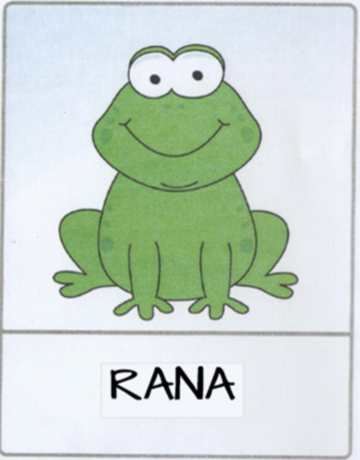rana: (20, 17, 324, 438)
